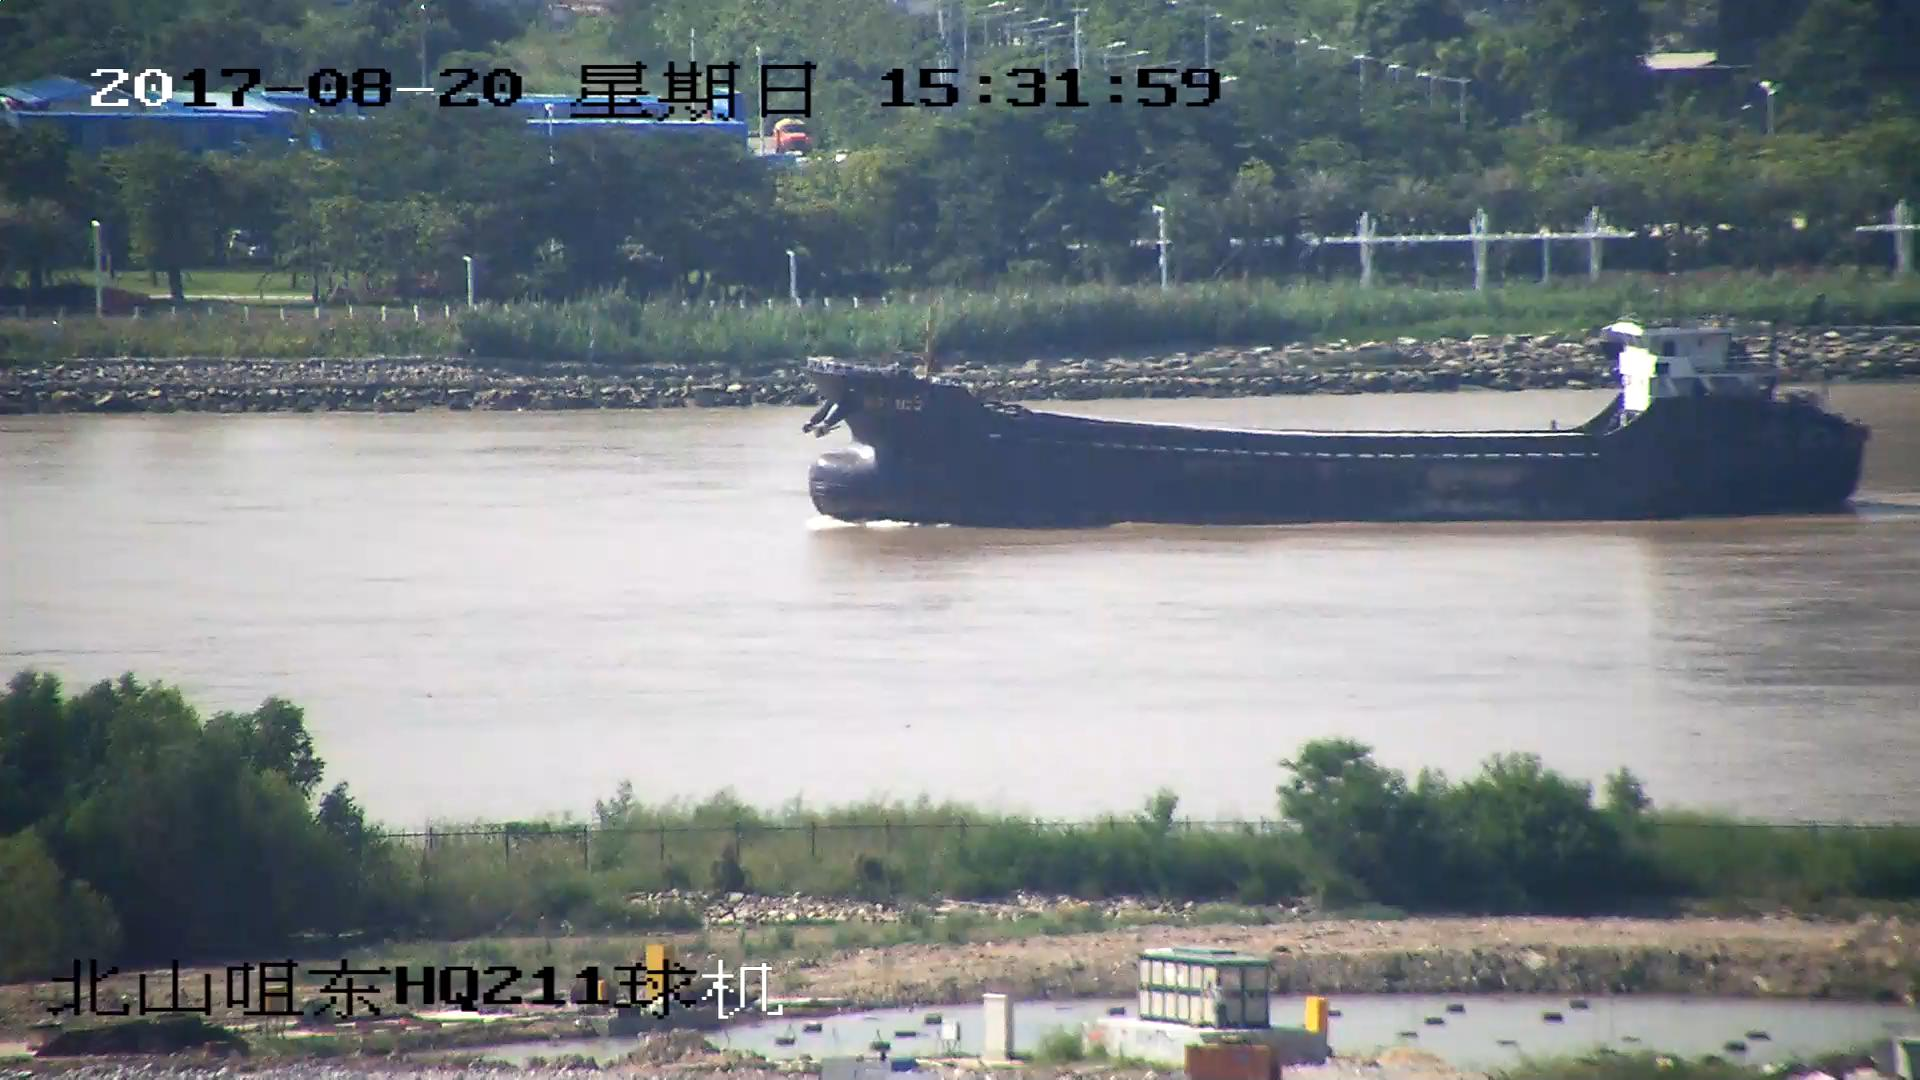general cargo ship: (807, 312, 1861, 530)
